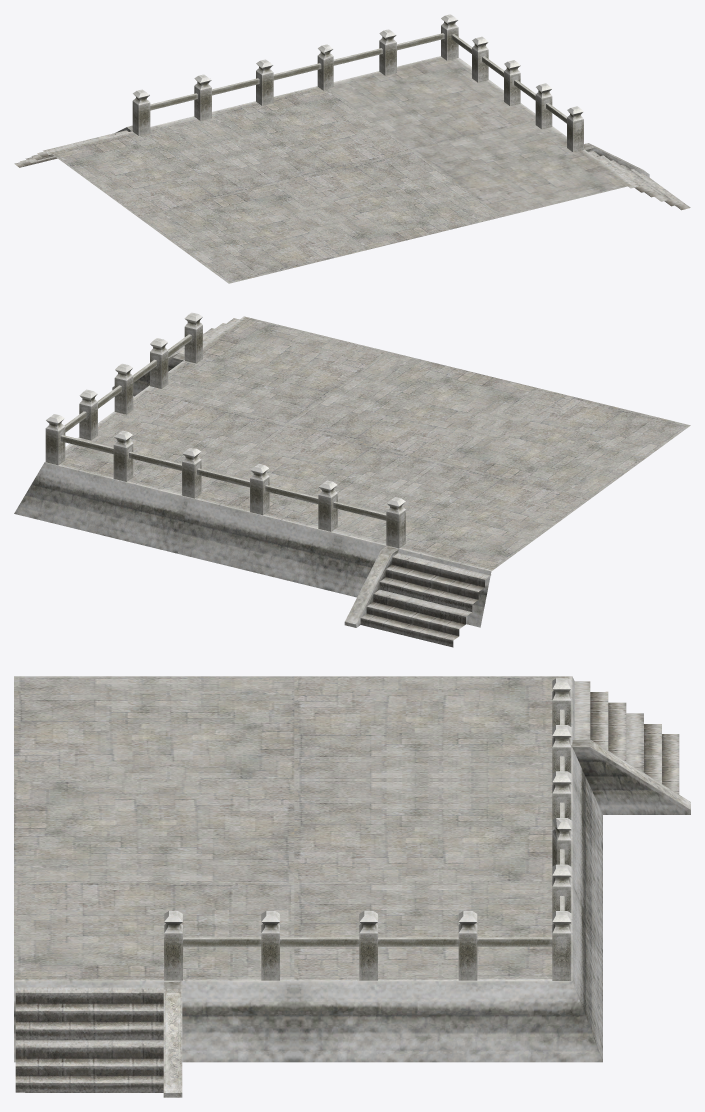
File: snow_tower01_04.glb
3 renders of one model, top to bottom at view 1: azimuth 30°, elevation 25°; view 2: azimuth 150°, elevation 25°; view 3: azimuth 270°, elevation 25°, orthographic. The views are drawn at different scales.
Visible parts, largest first — view 1: snow_tower02_04; view 2: snow_tower02_04; view 3: snow_tower02_04.
Part boxes in pixels (left/top/right/bottom): snow_tower02_04: left=14, top=14, right=690, bottom=283; snow_tower02_04: left=14, top=312, right=690, bottom=647; snow_tower02_04: left=14, top=676, right=690, bottom=1097.
Bounding box in the file's own units: 42.51 × 7.32 × 34.34.
1 material, 1 textured.
